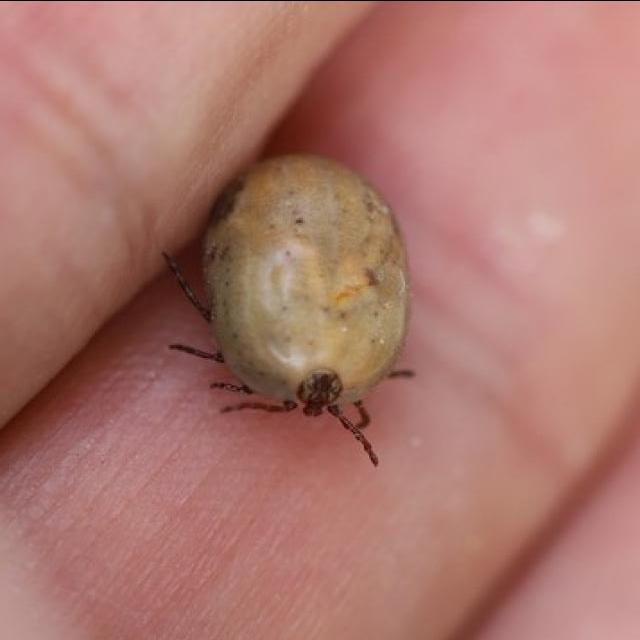Dermacentor Reticulatus-F-Fed: (160, 154, 416, 468)
